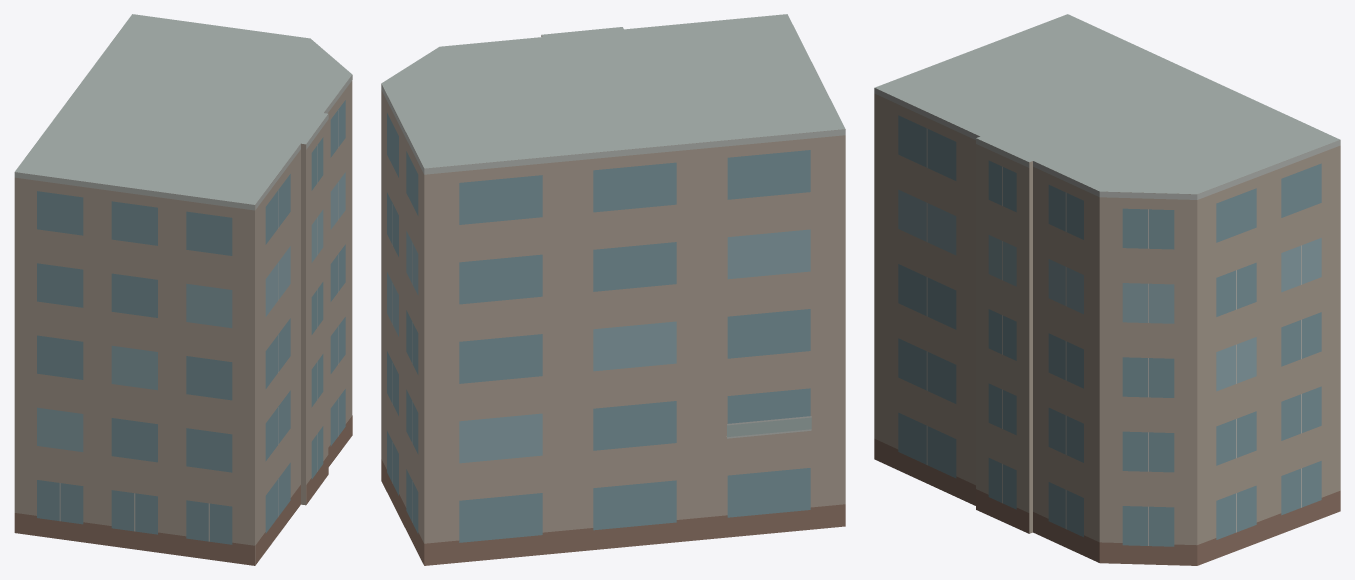
Rendered from survey-upis-32864645.glb.
The picture shows the model from 3 angles, left to right: view 1: azimuth 30°, elevation 25°; view 2: azimuth 150°, elevation 25°; view 3: azimuth 270°, elevation 25°; orthographic projection. The views are drawn at different scales.
Visible parts, largest first — view 1: survey-upis-32864645.tmp; view 2: survey-upis-32864645.tmp; view 3: survey-upis-32864645.tmp.
Boxes of the visible parts, <box> form: survey-upis-32864645.tmp: <box>14,14,352,565</box>; survey-upis-32864645.tmp: <box>381,14,845,565</box>; survey-upis-32864645.tmp: <box>874,14,1340,565</box>.
Size of the model in its own units: 16.45 by 15.8 by 17.97.
